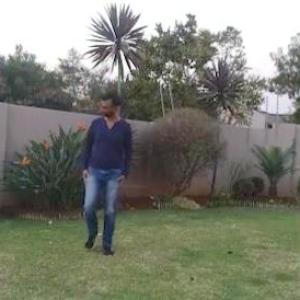follow: (77, 89, 130, 256)
